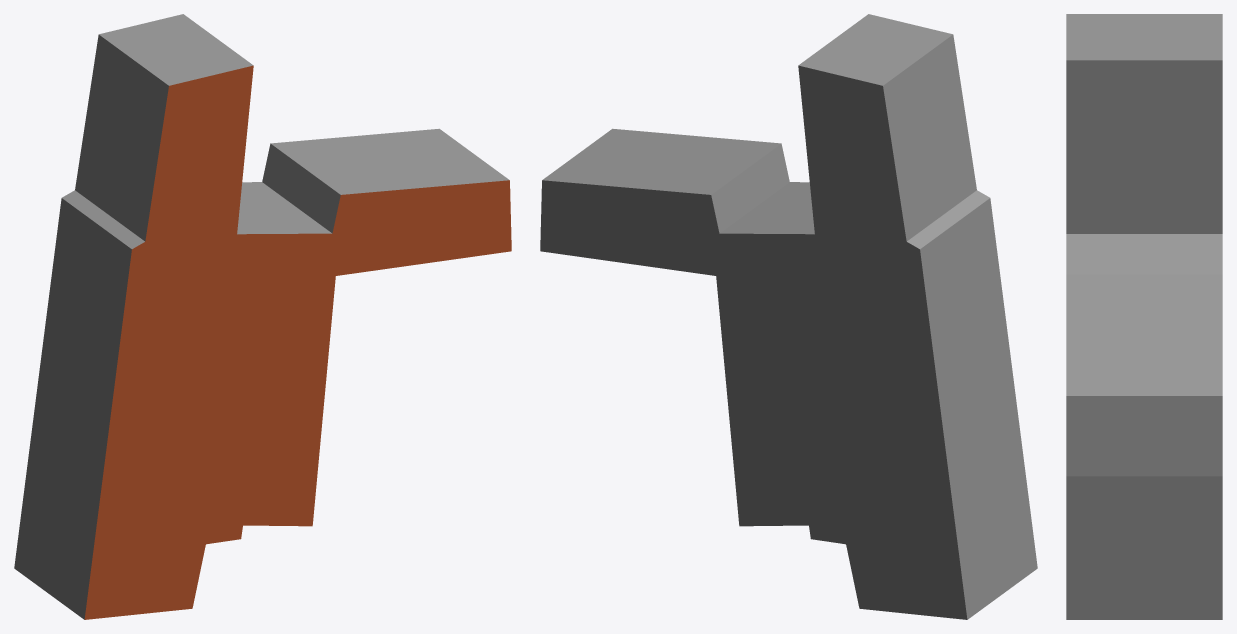
The model's file is construction_2156_assumed_A_Casa_h6m.obj.
The picture shows the model from 3 angles, left to right: view 1: azimuth 30°, elevation 25°; view 2: azimuth 150°, elevation 25°; view 3: azimuth 270°, elevation 25°; orthographic projection. The views are drawn at different scales.
Parts seen in each view (by area): view 1: construction_2156_assumed_A_Casa; view 2: construction_2156_assumed_A_Casa; view 3: construction_2156_assumed_A_Casa.
Boxes of the visible parts, x1=… form: construction_2156_assumed_A_Casa: x1=14, y1=14, x2=511, y2=619; construction_2156_assumed_A_Casa: x1=540, y1=14, x2=1037, y2=619; construction_2156_assumed_A_Casa: x1=1066, y1=14, x2=1222, y2=619.
Bounding box in the file's own units: 21.03 × 24.87 × 6.
